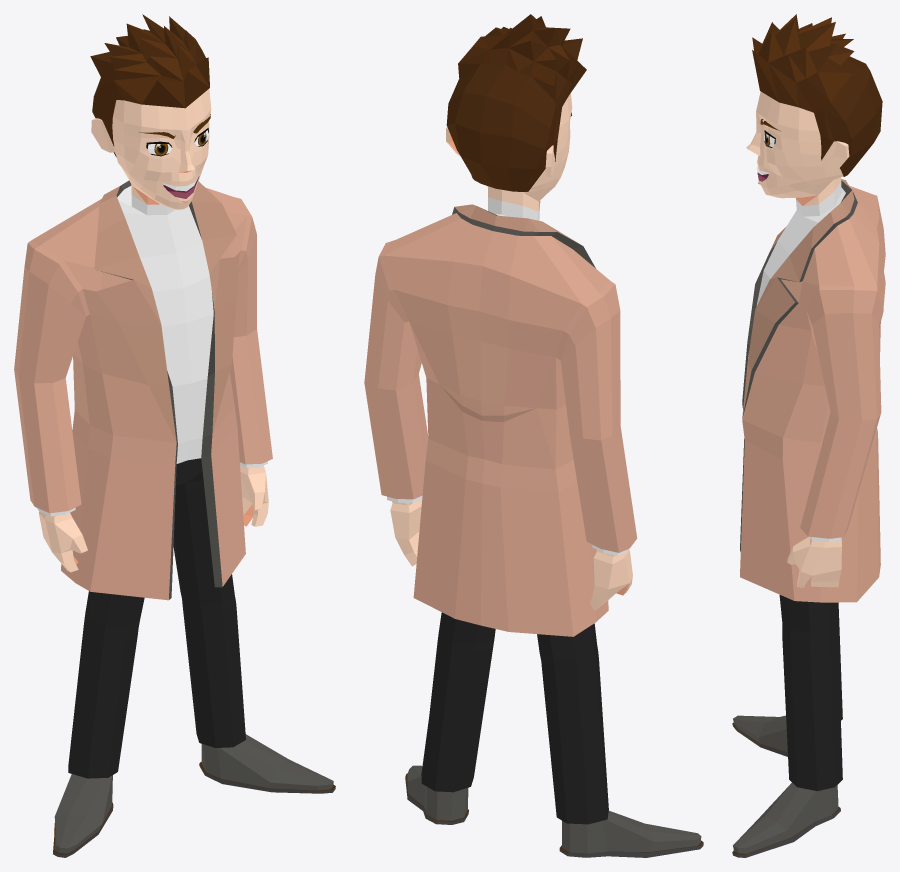
Rendered from character25.glb.
3 views of the same model, side by side, from view 1: azimuth 30°, elevation 25°; view 2: azimuth 150°, elevation 25°; view 3: azimuth 270°, elevation 25° (orthographic). The views are drawn at different scales.
Visible parts, largest first — view 1: Cube_2, HAIR_4, Cylinder.001_3; view 2: Cube_2, HAIR_4, Cylinder.001_3; view 3: Cube_2, HAIR_4, Cylinder.001_3.
Part boxes in pixels (bbox=[...]): Cube_2: bbox=[14, 180, 335, 857]; HAIR_4: bbox=[90, 14, 209, 157]; Cylinder.001_3: bbox=[91, 89, 211, 209]; Cube_2: bbox=[364, 186, 703, 857]; HAIR_4: bbox=[446, 14, 586, 191]; Cylinder.001_3: bbox=[446, 93, 572, 201]; Cube_2: bbox=[732, 177, 885, 857]; HAIR_4: bbox=[752, 14, 882, 176]; Cylinder.001_3: bbox=[746, 91, 849, 198].
Bounding box in the file's own units: 1.68 × 4.47 × 0.8072.
Materials: 1 (1 with a texture image).
